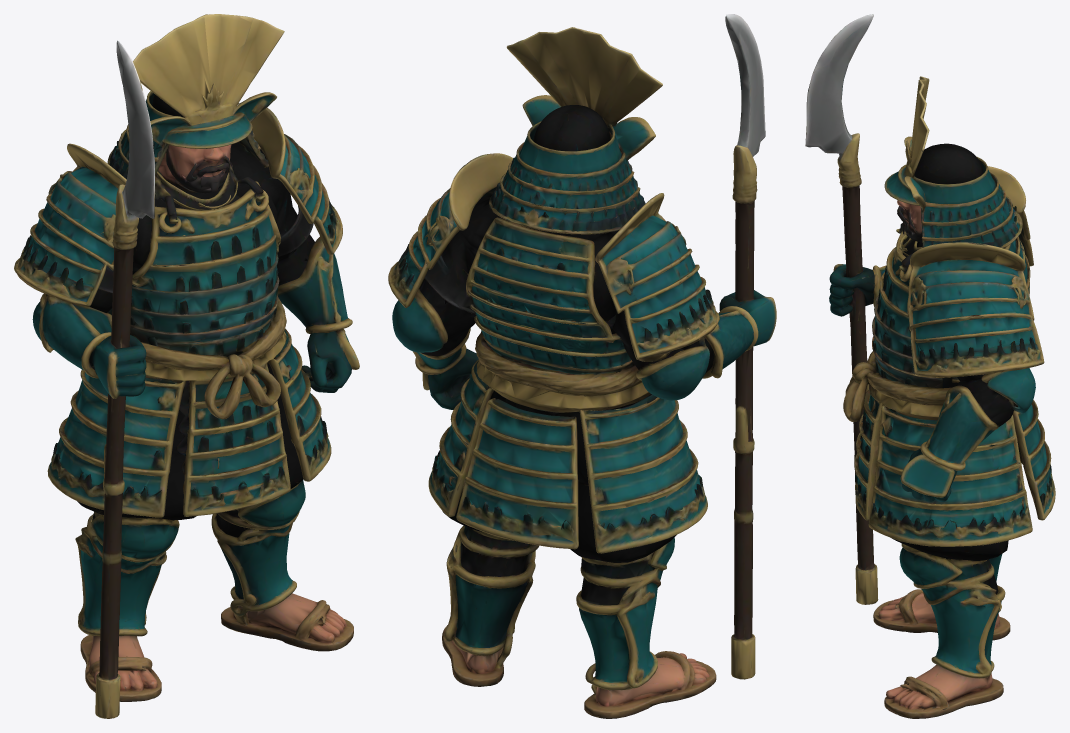
File: detail_5.glb
The picture shows the model from 3 angles, left to right: view 1: azimuth 30°, elevation 25°; view 2: azimuth 150°, elevation 25°; view 3: azimuth 270°, elevation 25°; orthographic projection. The views are drawn at different scales.
Size of the model in its own units: 0.4812 by 0.9997 by 0.3798.
Materials: 1 (1 with a texture image).
